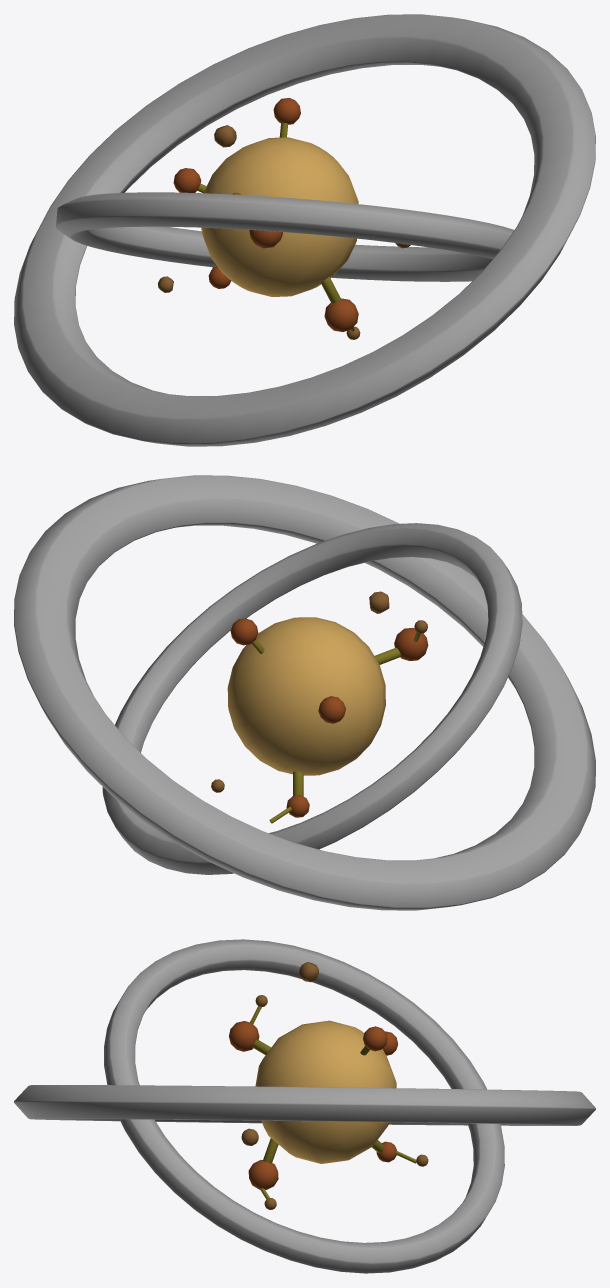
File: Orb_3.fbx
3 views of the same model, one above another, from view 1: azimuth 30°, elevation 25°; view 2: azimuth 150°, elevation 25°; view 3: azimuth 270°, elevation 25° (orthographic). The views are drawn at different scales.
Visible parts, largest first — view 1: BezierCircle.001, BezierCircle, Sphere, Icosphere.003, Icosphere, Icosphere.005; view 2: BezierCircle.001, BezierCircle, Sphere, Icosphere.001, Icosphere, Icosphere.005; view 3: BezierCircle, BezierCircle.001, Sphere, Icosphere.001, Icosphere.003, Icosphere.
Part boxes in pixels (x1,y1,x2,y2): BezierCircle.001: [14, 14, 595, 446]; BezierCircle: [56, 192, 514, 281]; Sphere: [201, 137, 358, 296]; Icosphere.003: [324, 298, 358, 331]; Icosphere: [273, 98, 300, 124]; Icosphere.005: [173, 168, 201, 192]; BezierCircle.001: [14, 475, 595, 910]; BezierCircle: [102, 523, 522, 874]; Sphere: [227, 617, 385, 775]; Icosphere.001: [394, 628, 428, 660]; Icosphere: [230, 618, 258, 645]; Icosphere.005: [318, 696, 345, 723]; BezierCircle: [104, 939, 504, 1273]; BezierCircle.001: [14, 1085, 595, 1125]; Sphere: [255, 1020, 396, 1163]; Icosphere.001: [229, 1021, 259, 1051]; Icosphere.003: [248, 1160, 278, 1189]; Icosphere: [363, 1026, 387, 1051].
Size of the model in its own units: 120 by 60.78 by 139.
